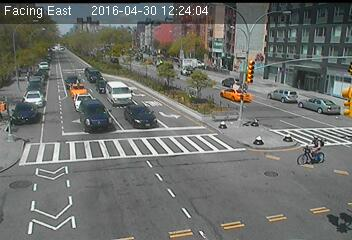neg: (265, 40, 291, 75), (173, 154, 199, 188), (305, 132, 330, 166), (47, 165, 70, 195), (228, 177, 250, 206), (124, 51, 146, 79), (200, 39, 221, 68), (111, 167, 132, 195), (60, 29, 81, 56), (88, 105, 108, 132), (263, 84, 283, 111), (22, 78, 42, 105), (301, 186, 321, 212), (20, 134, 40, 159), (148, 98, 167, 123), (200, 119, 218, 142), (220, 78, 238, 101), (65, 80, 82, 103), (326, 209, 343, 232), (303, 29, 320, 52), (308, 80, 324, 102), (171, 61, 187, 82), (252, 137, 265, 154)
